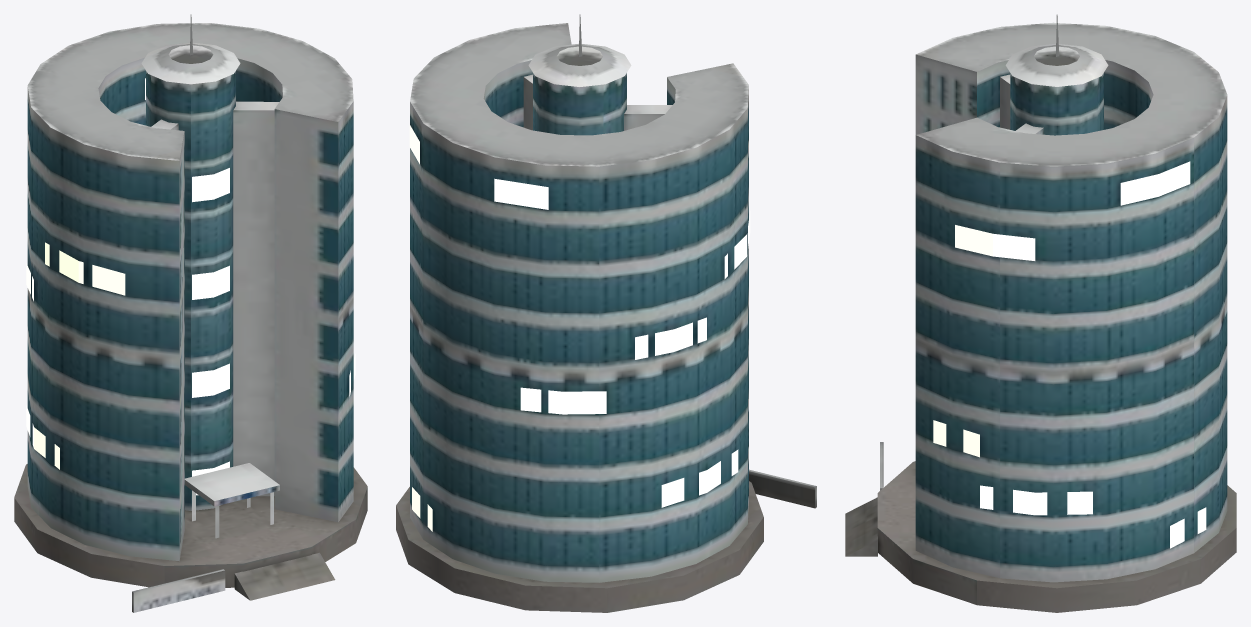
Rendered from cyber_towers.glb.
The picture shows the model from 3 angles, left to right: view 1: azimuth 30°, elevation 25°; view 2: azimuth 150°, elevation 25°; view 3: azimuth 270°, elevation 25°; orthographic projection. The views are drawn at different scales.
Visible parts, largest first — view 1: cyber_towers_body, ct_lit; view 2: cyber_towers_body, ct_lit; view 3: cyber_towers_body, ct_lit.
Boxes of the visible parts, x1,y1,x2,y2 form: cyber_towers_body: [14, 14, 367, 612]; ct_lit: [26, 78, 355, 495]; cyber_towers_body: [396, 14, 816, 612]; ct_lit: [409, 124, 750, 531]; cyber_towers_body: [845, 14, 1236, 612]; ct_lit: [933, 161, 1206, 548].
Bounding box in the file's own units: 95.2 × 149 × 101.
Materials: 2 (1 with a texture image).
